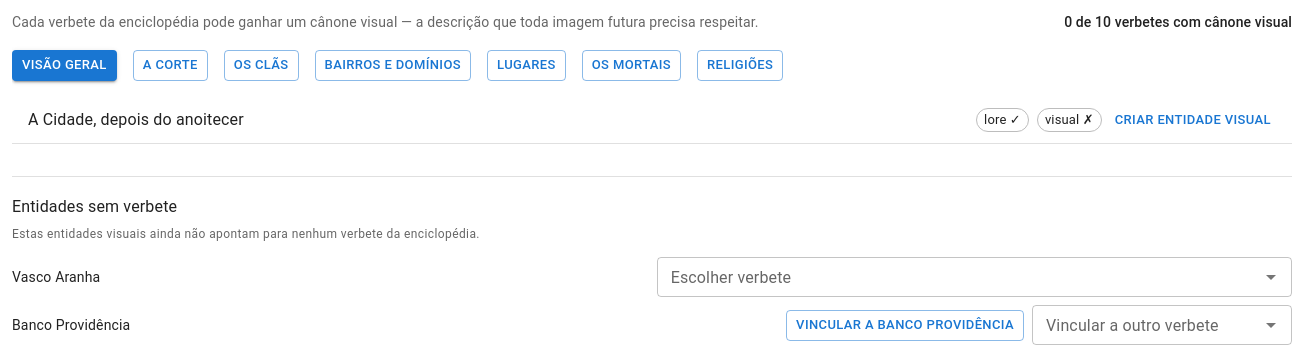
AcervoTab › lists seeded entities that have no verbete and links them
The width and height of the screenshot is (1304, 362).
Check: the heading "Entidades sem verbete" is shown, box [12,198,177,216]
Check: the text "Vasco Aranha" is shown, box [12,270,100,286]
Click the button "Vincular a Banco Providência". click: (905, 326)
box: [786,310,1024,341]
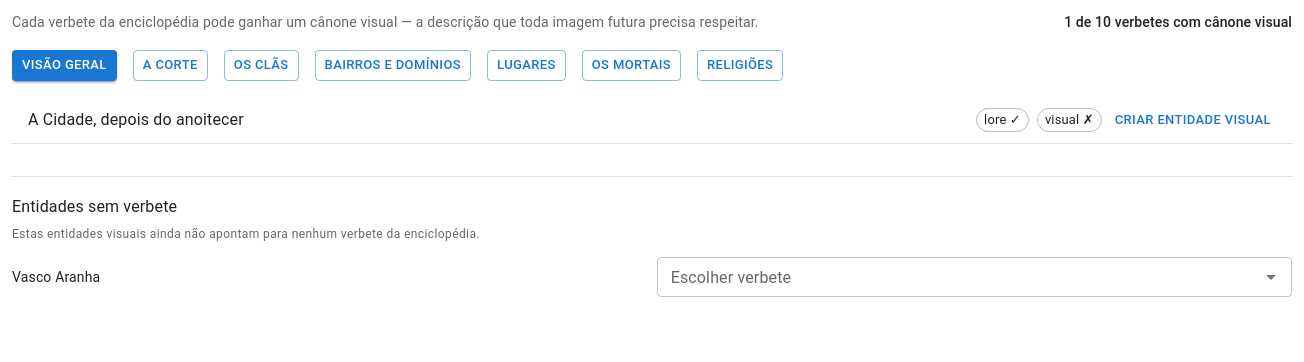
Check: the button "Vincular a Banco Providência" is gone
